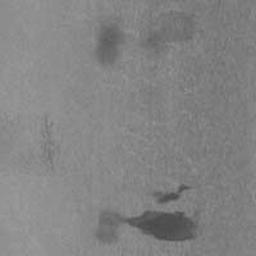Oil spot: (91, 183, 202, 246), (136, 0, 198, 60), (90, 22, 128, 67)
